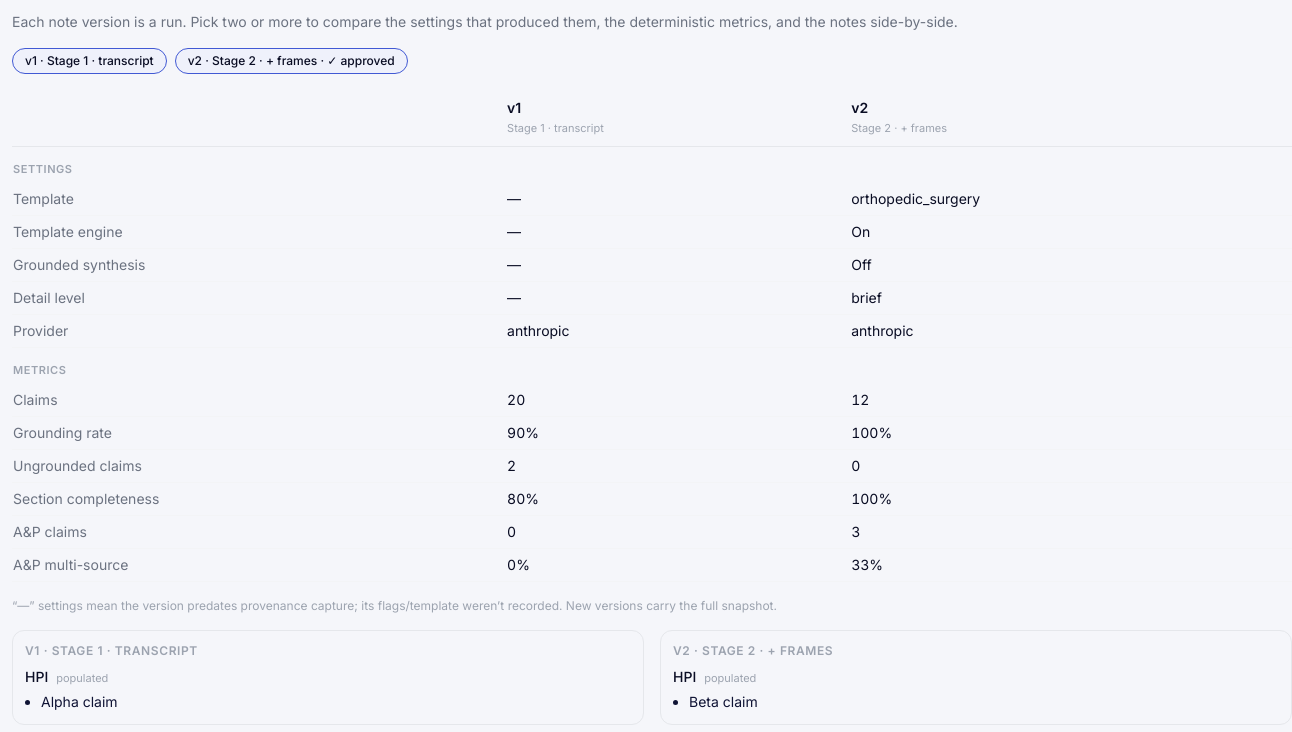
Test: EvalCompareRuns › requires at least two runs selected
The image size is (1292, 732).
# Deselect v1 → only one run selected → the table drops, hint appears.
Click the button with test id "eval-run-pill-1" at (89, 61), box [12,48,167,74]
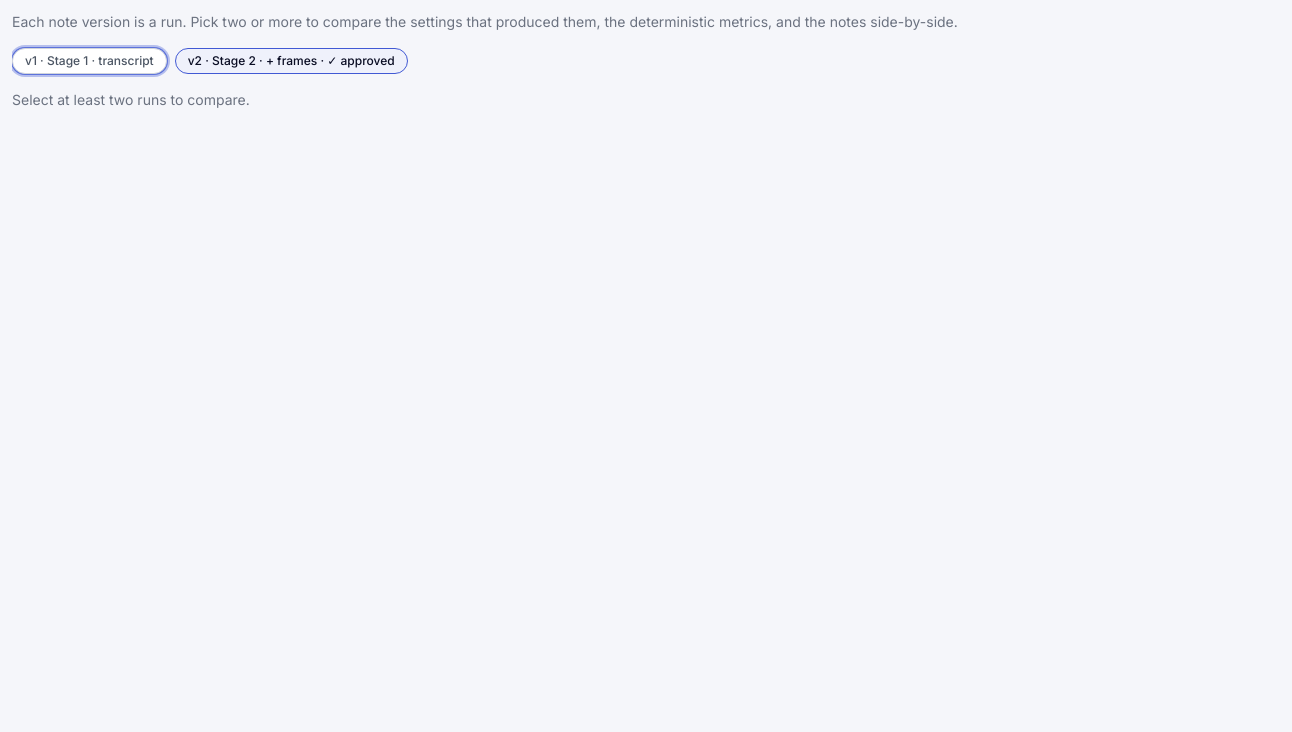
Expected: the table with test id "eval-compare-table" is gone
Expected: the text "Select at least two runs to compare." is shown, [12,91,250,108]
